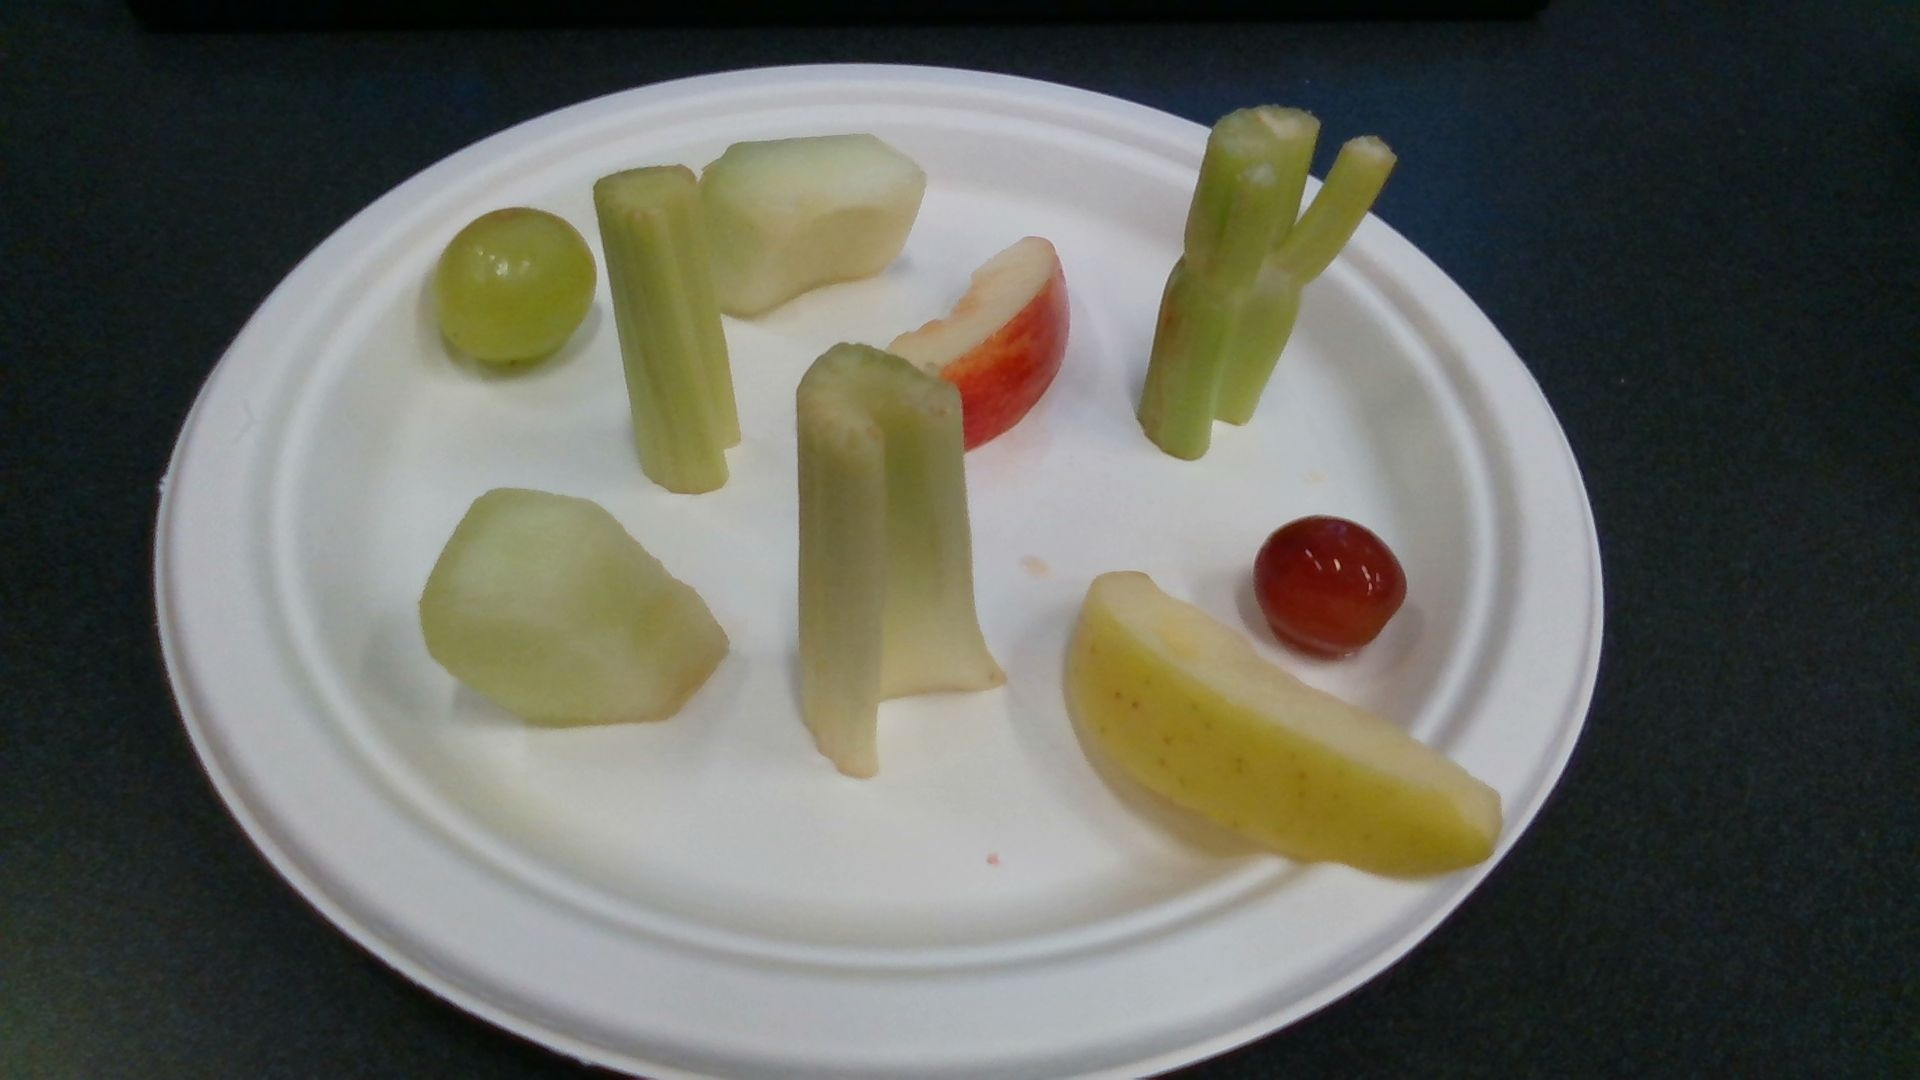apple: (1073, 570, 1501, 878), (884, 237, 1069, 450)
cantalope: (425, 491, 732, 725), (702, 136, 924, 313)
celery: (796, 343, 1007, 778), (1139, 109, 1394, 458), (597, 165, 742, 491)
grape_green: (439, 214, 593, 361)
grape_purple: (1257, 518, 1404, 655)
